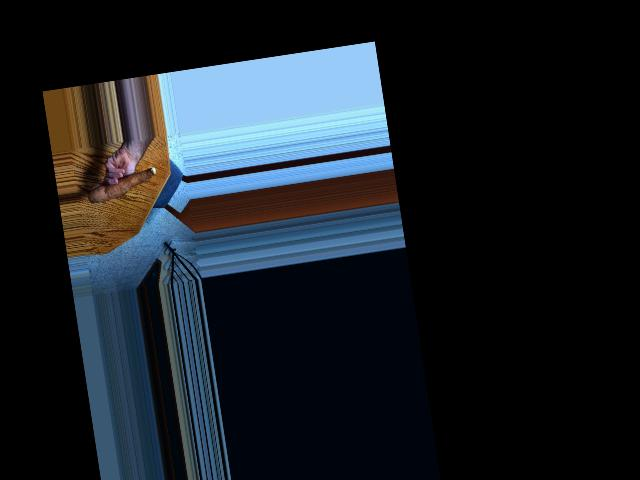sweet_potato: (87, 166, 162, 208)
